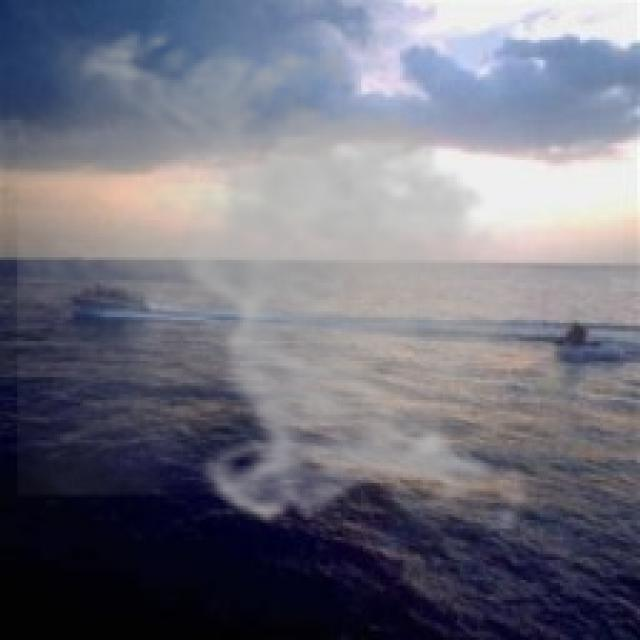Smoke: (17, 14, 557, 529)
